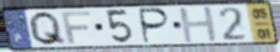2: (217, 6, 248, 42)
5: (105, 8, 135, 45)
F: (60, 10, 93, 45)
H: (177, 5, 220, 45)
P: (138, 7, 172, 45)
Q: (27, 10, 69, 47)
